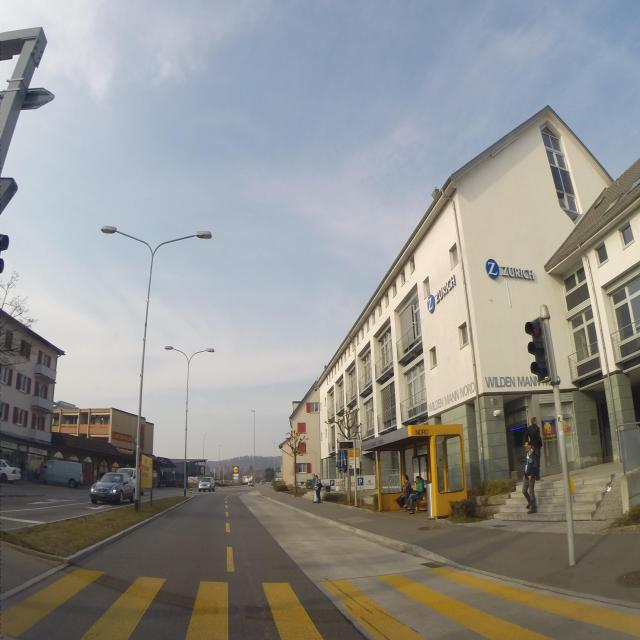Good: (615, 564, 640, 592), (415, 522, 450, 534)
